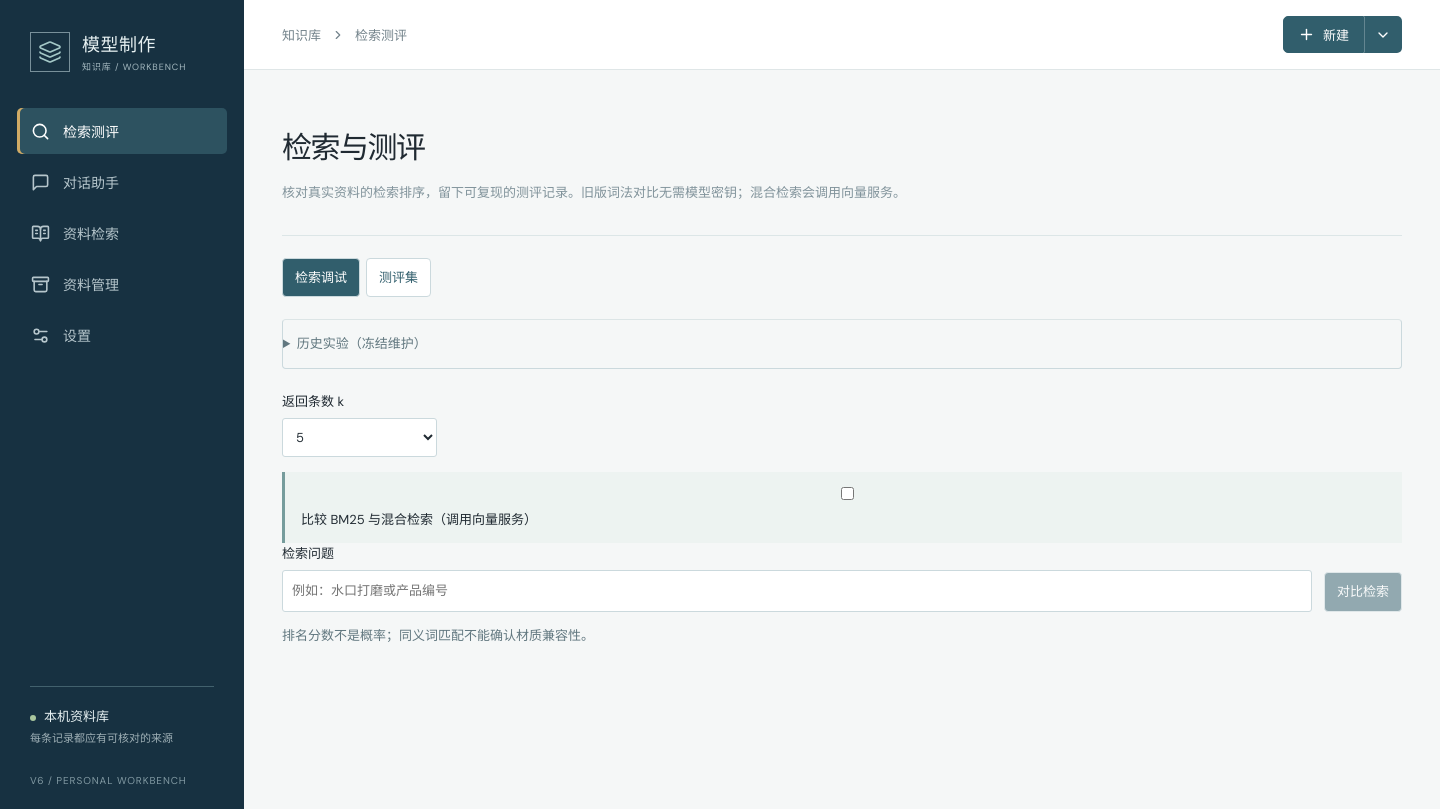
Test: shows no matches and actionable server errors
In the field labelled "检索问题": (797, 591) [282, 570, 1312, 612], type "未知"
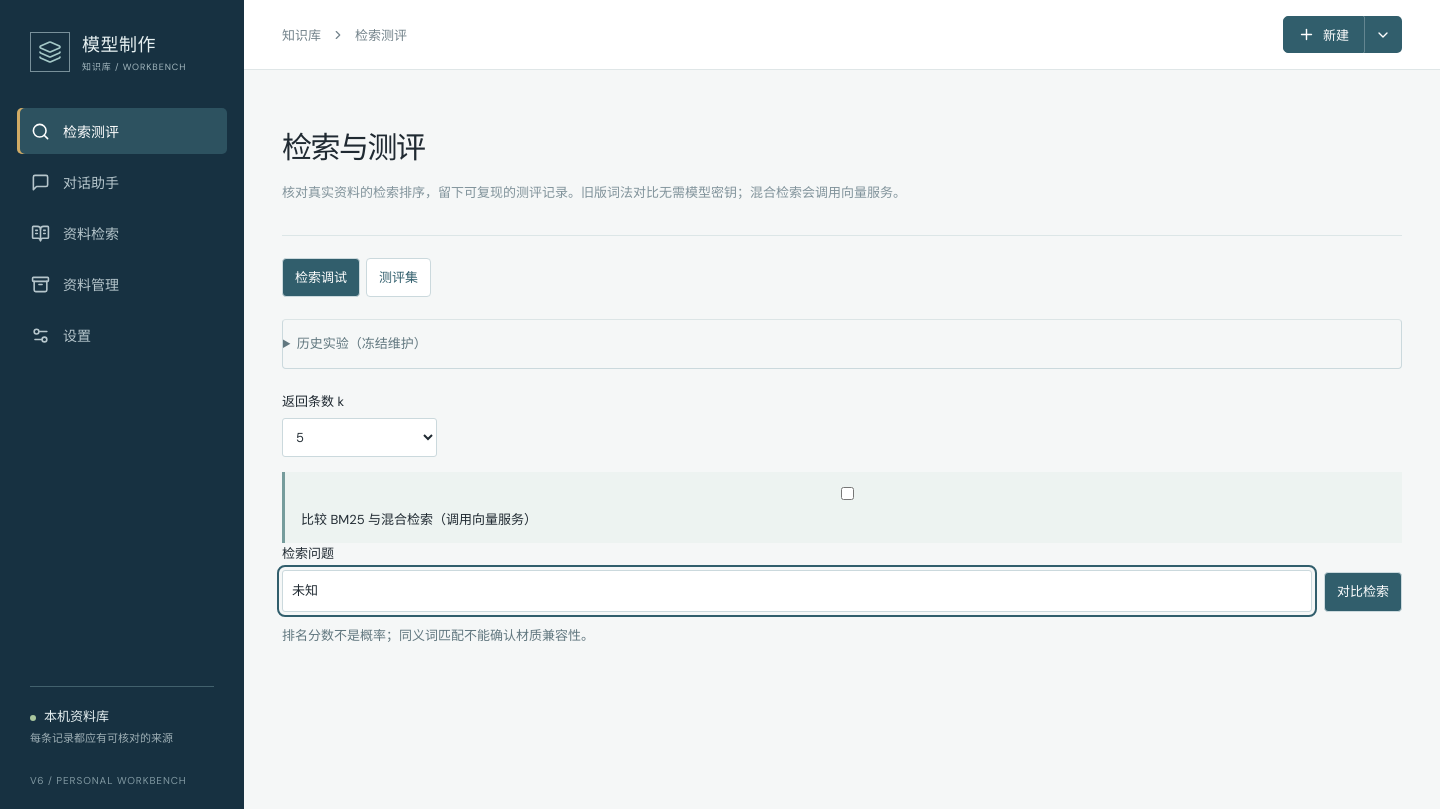
Click the button "对比检索": (1363, 592) [1324, 572, 1402, 612]
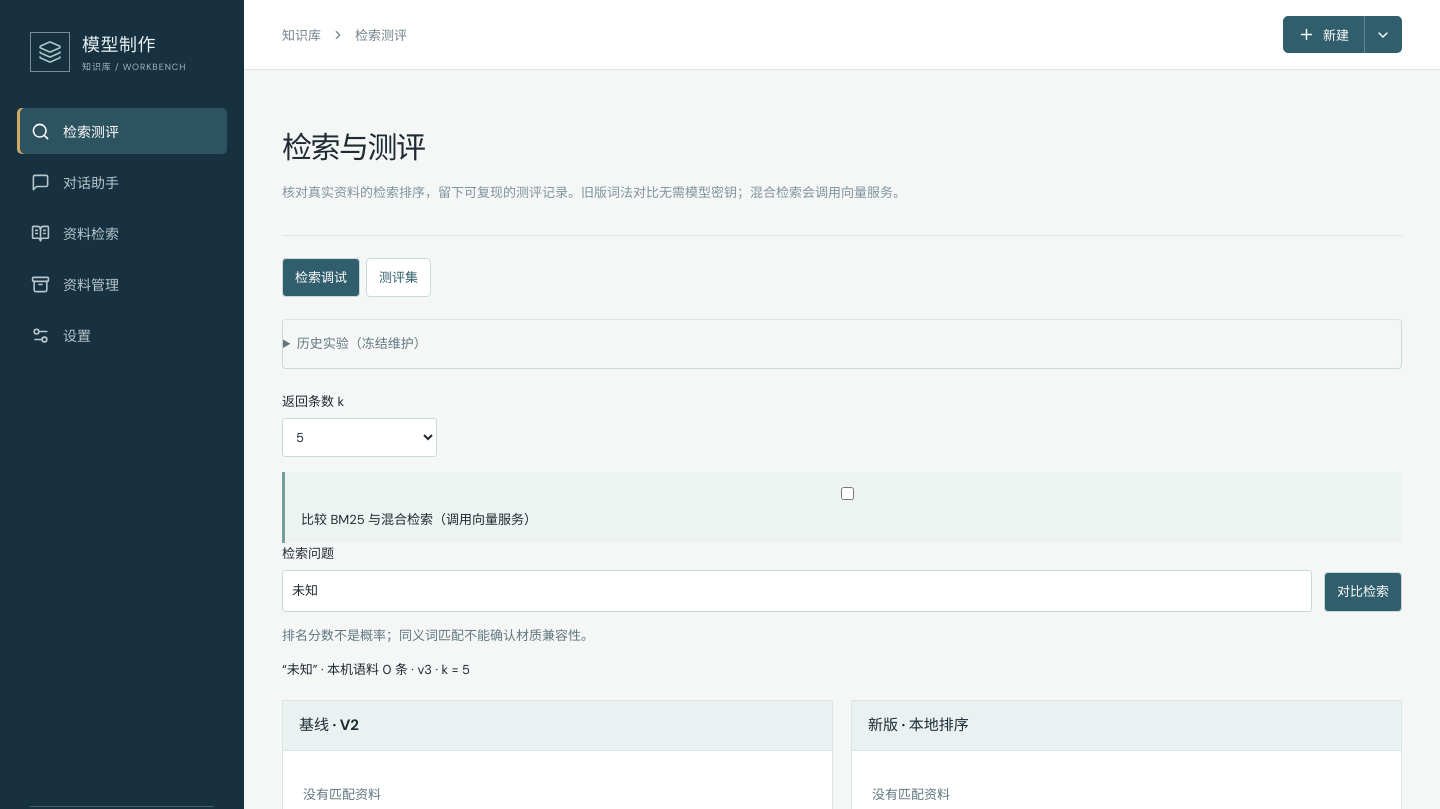
expect the text "没有匹配资料" is shown 2 times: met, box [303, 786, 381, 803]; [872, 786, 950, 803]
Click the button "测评集": (398, 278) [366, 258, 431, 297]
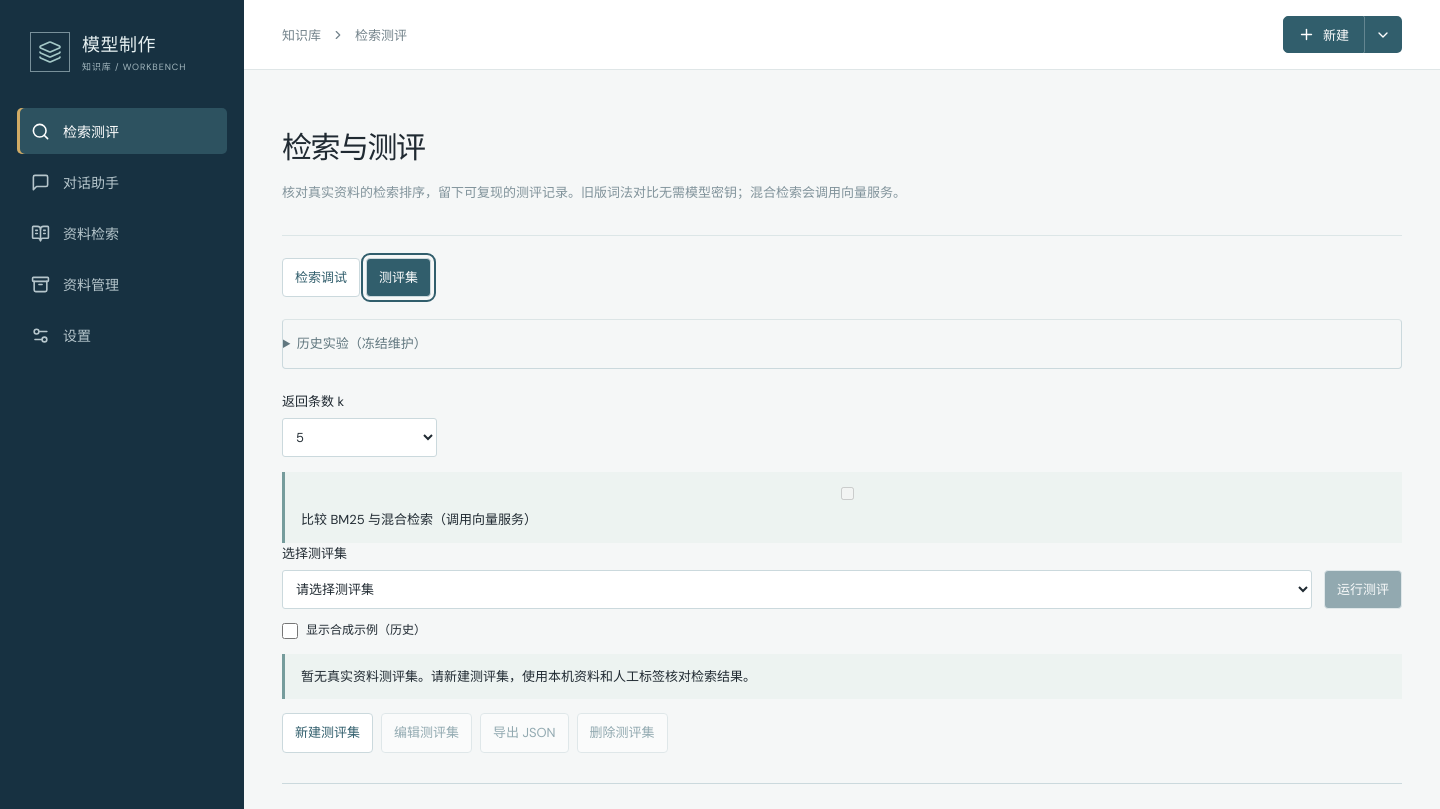
Click the checkbox labelled "显示合成示例（历史）": (290, 631) [282, 623, 298, 639]
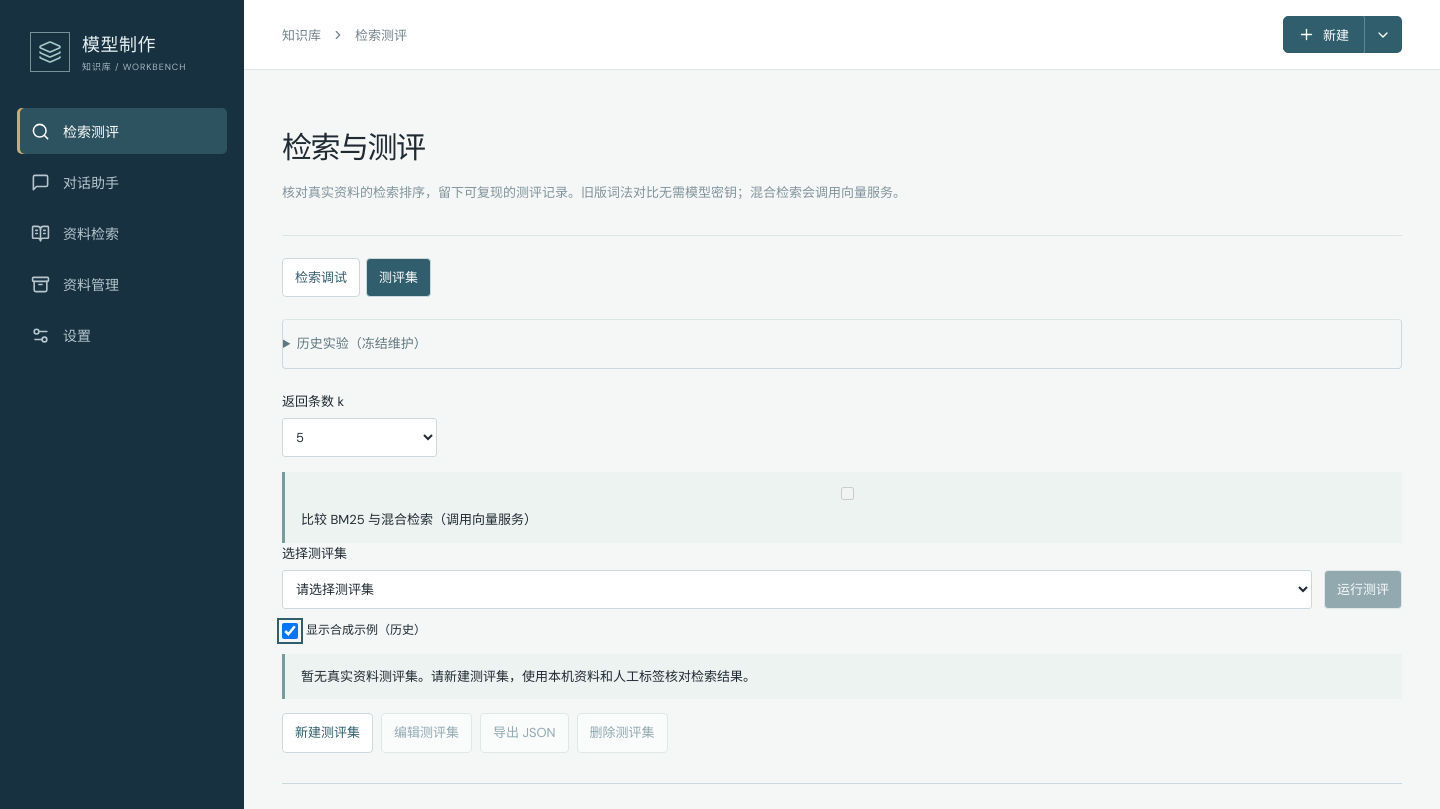
Select "人工示例集（1 题，合成示例）" in the dropdown labelled "选择测评集": (797, 590) [282, 570, 1312, 609]
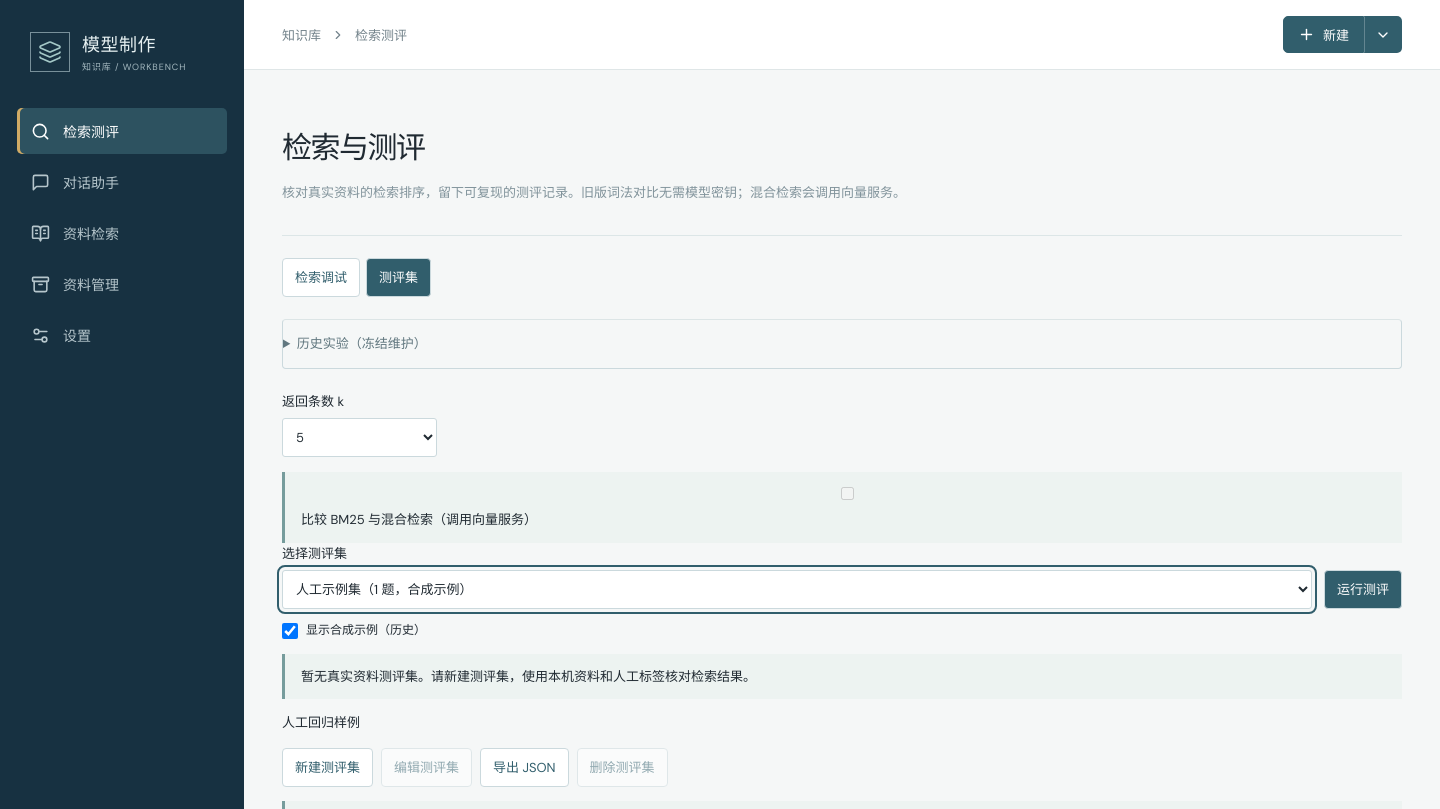
Click the button "运行测评": (1363, 589) [1324, 570, 1402, 609]
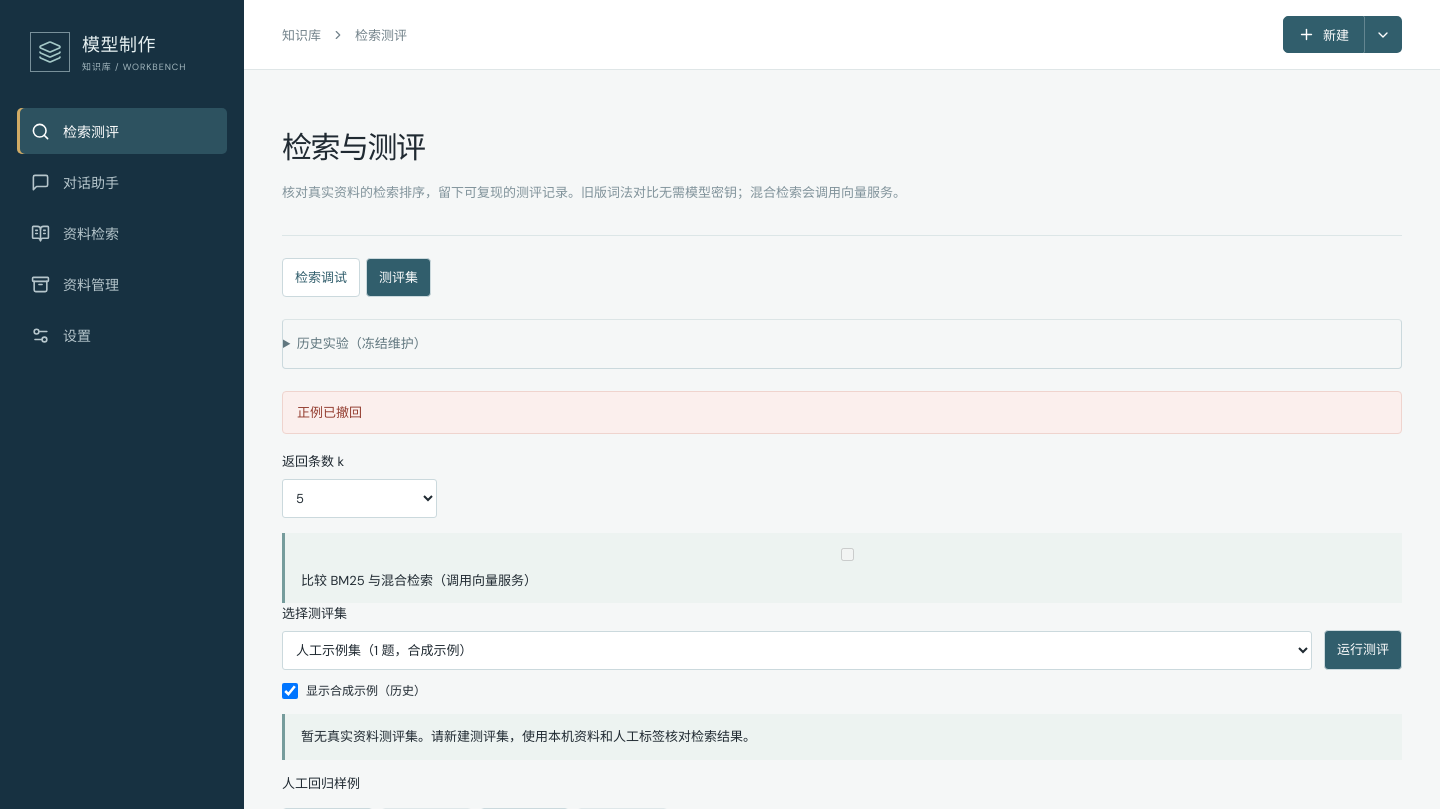
expect the message reads "正例已撤回": met, box [297, 404, 362, 421]
